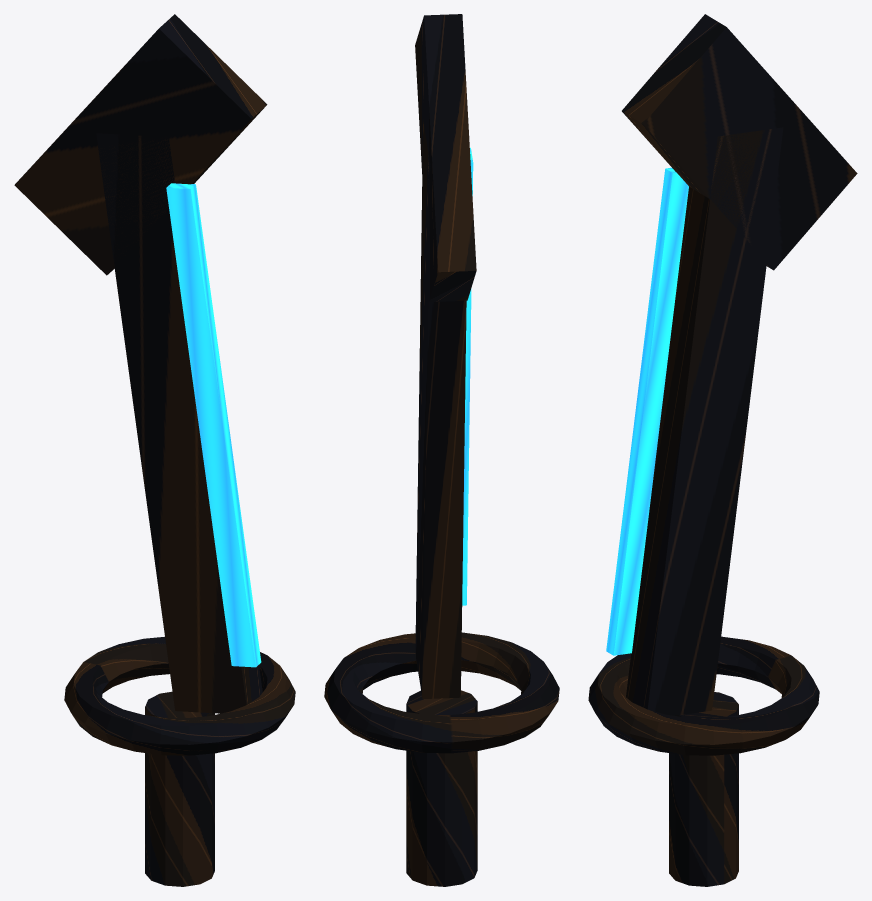
File: abyss-blade.glb
The picture shows the model from 3 angles, left to right: view 1: azimuth 30°, elevation 25°; view 2: azimuth 150°, elevation 25°; view 3: azimuth 270°, elevation 25°; orthographic projection.
Parts seen in each view (by area): view 1: blade-spine, blade-tip, blade-rune-edge, blade-hilt, blade-grip; view 2: blade-spine, blade-hilt, blade-tip, blade-grip, blade-rune-edge; view 3: blade-spine, blade-tip, blade-hilt, blade-rune-edge, blade-grip.
Part boxes in pixels (x1,y1,x2,y2): blade-spine: (96,133,262,713); blade-tip: (14,14,267,275); blade-rune-edge: (166,183,261,667); blade-hilt: (64,636,295,755); blade-grip: (145,691,214,886); blade-spine: (415,120,466,698); blade-hilt: (324,632,559,753); blade-tip: (415,14,476,301); blade-grip: (406,690,477,886); blade-rune-edge: (462,147,473,605); blade-spine: (626,127,783,715); blade-tip: (622,14,857,270); blade-hilt: (588,636,819,755); blade-rune-edge: (606,167,688,655); blade-grip: (669,692,738,886).
Bounding box in the file's own units: 0.4284 × 1.73 × 0.4983.
Materials: 2 (2 with a texture image).
